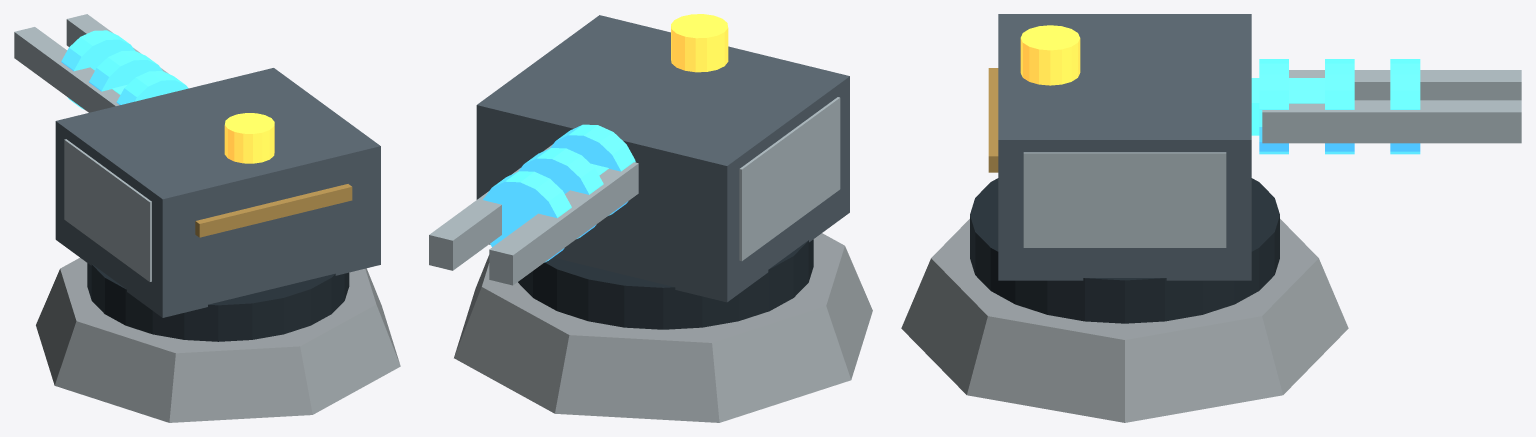
Rendered from plasma-cannon.glb.
The picture shows the model from 3 angles, left to right: view 1: azimuth 30°, elevation 25°; view 2: azimuth 150°, elevation 25°; view 3: azimuth 270°, elevation 25°; orthographic projection. The views are drawn at different scales.
Visible parts, largest first — view 1: armored turret, octagonal emplacement, azimuth bearing, side armor module, split accelerator rail, gold identification bar, sensor, magnetic coil.002, magnetic coil.001, magnetic coil, split accelerator rail.001; view 2: armored turret, octagonal emplacement, azimuth bearing, side armor module, split accelerator rail, split accelerator rail.001, magnetic coil.002, sensor, magnetic coil.001, magnetic coil; view 3: octagonal emplacement, armored turret, side armor module.001, azimuth bearing, split accelerator rail.001, split accelerator rail, sensor, magnetic coil, magnetic coil.002, magnetic coil.001, energy core, gold identification bar.
Boxes of the visible parts, left/top/right/bottom form: armored turret: left=55, top=68, right=380, bottom=317; octagonal emplacement: left=36, top=258, right=400, bottom=422; azimuth bearing: left=87, top=263, right=349, bottom=341; side armor module: left=64, top=139, right=151, bottom=281; split accelerator rail: left=14, top=27, right=120, bottom=112; gold identification bar: left=195, top=184, right=352, bottom=237; sensor: left=224, top=113, right=274, bottom=163; magnetic coil.002: left=61, top=30, right=135, bottom=109; magnetic coil.001: left=89, top=50, right=162, bottom=91; magnetic coil: left=116, top=71, right=188, bottom=104; split accelerator rail.001: left=66, top=14, right=168, bottom=73; armored turret: left=476, top=15, right=849, bottom=302; octagonal emplacement: left=454, top=233, right=872, bottom=422; azimuth bearing: left=518, top=239, right=813, bottom=329; side armor module: left=739, top=97, right=840, bottom=261; split accelerator rail: left=489, top=162, right=638, bottom=285; split accelerator rail.001: left=429, top=144, right=552, bottom=270; magnetic coil.002: left=483, top=171, right=571, bottom=262; sensor: left=671, top=14, right=728, bottom=72; magnetic coil.001: left=518, top=148, right=603, bottom=238; magnetic coil: left=550, top=124, right=635, bottom=215; octagonal emplacement: left=901, top=219, right=1348, bottom=422; armored turret: left=998, top=14, right=1251, bottom=280; side armor module.001: left=1023, top=152, right=1226, bottom=247; azimuth bearing: left=970, top=178, right=1279, bottom=323; split accelerator rail.001: left=1262, top=100, right=1521, bottom=143; split accelerator rail: left=1289, top=70, right=1521, bottom=100; sensor: left=1020, top=25, right=1080, bottom=85; magnetic coil: left=1259, top=59, right=1288, bottom=154; magnetic coil.002: left=1390, top=59, right=1420, bottom=154; magnetic coil.001: left=1325, top=59, right=1354, bottom=154; energy core: left=1251, top=78, right=1324, bottom=135; gold identification bar: left=988, top=68, right=998, bottom=172.
Bounding box in the file's own units: 1.5 × 1.07 × 2.08.
